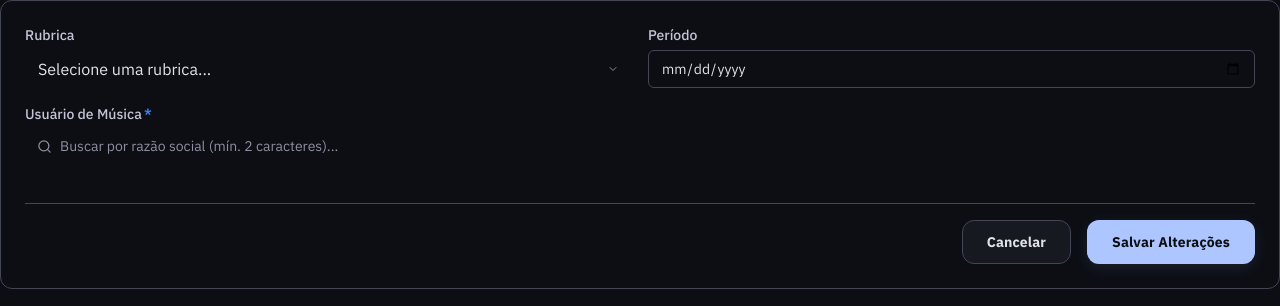
Test: CaptacaoForm › shows empty state message when no results found
This screenshot has width=1280, height=306.
Type "ZZZZZ" into the dropdown with placeholder "Buscar por razão social (mín. 2 caracteres)...".
click(640, 146); type("ZZZZZ")  # box [25,129,1255,163]
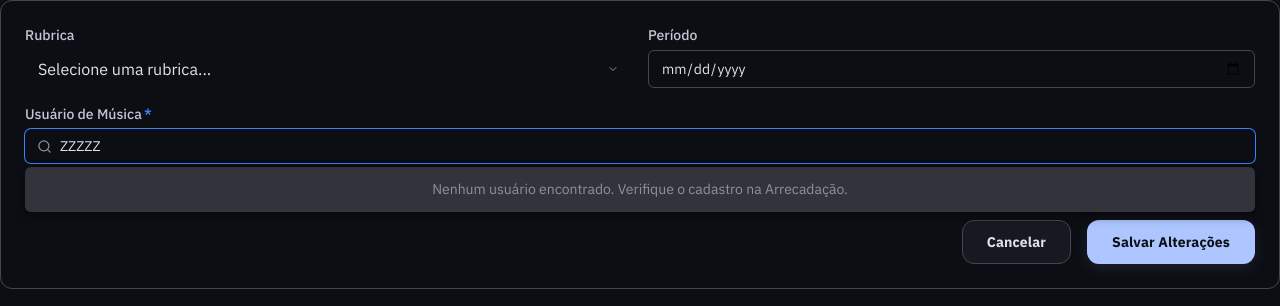
Expected: the text "Nenhum usuário encontrado. Verifique o cadastro na Arrecadação." is shown, [432,180,848,198]
